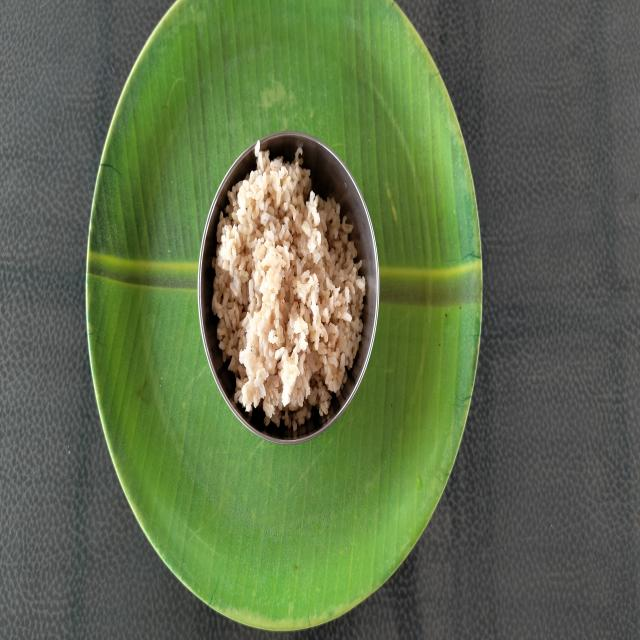brown-rice: (212, 146, 365, 430)
